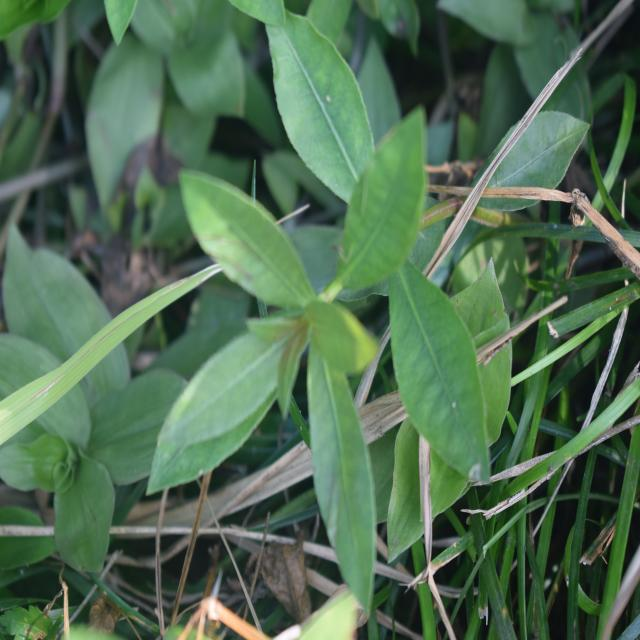Alligatorweed: (195, 36, 481, 558)
